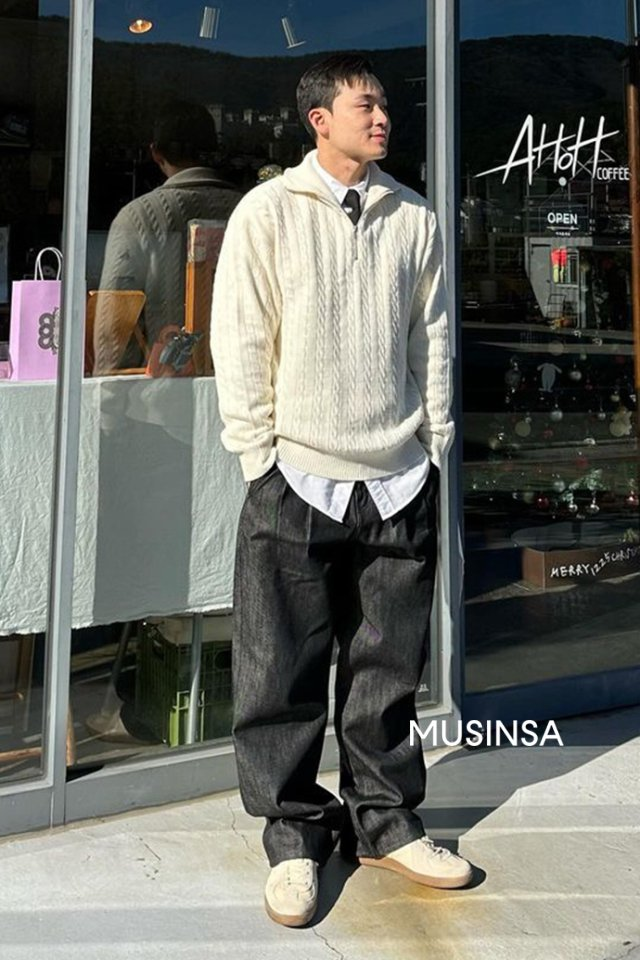Jeans: (228, 463, 444, 860)
Shoes: (262, 832, 481, 931)
Tie: (338, 183, 367, 221)
Top: (213, 143, 461, 485)
